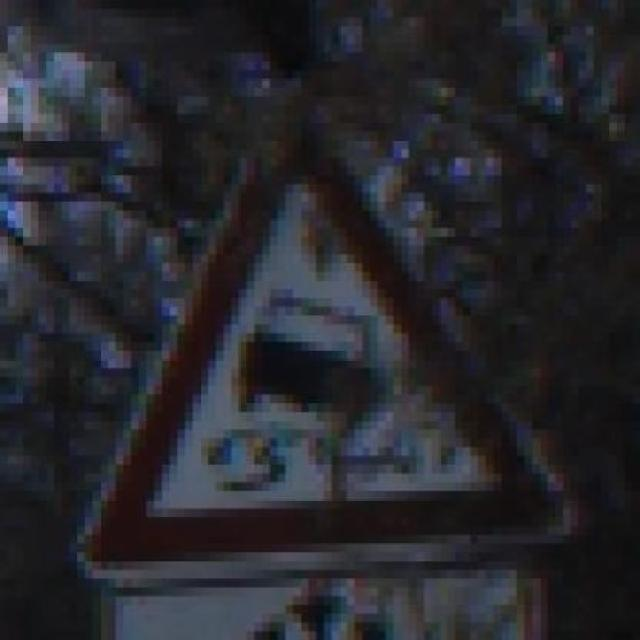Slippery Road Ahead: (70, 106, 578, 596)
